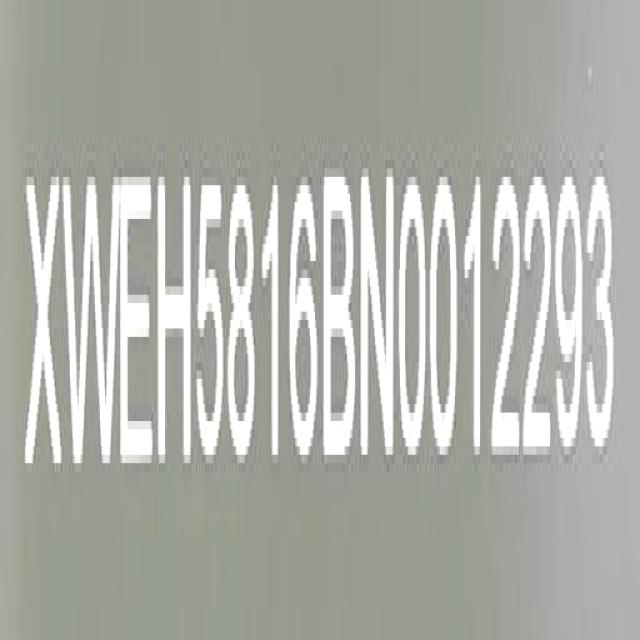0: (428, 165, 459, 458), (398, 168, 427, 462)
1: (259, 181, 281, 465), (463, 162, 484, 456)
2: (62, 171, 120, 468), (491, 172, 522, 458), (523, 175, 552, 452)
3: (119, 175, 155, 471), (587, 172, 615, 456)
5: (196, 184, 224, 459)
6: (288, 181, 318, 455)
8: (226, 178, 257, 465)
9: (554, 172, 584, 456)
B: (319, 174, 356, 464)
H: (156, 165, 192, 478)
N: (358, 162, 396, 462)
X: (23, 168, 64, 471)
